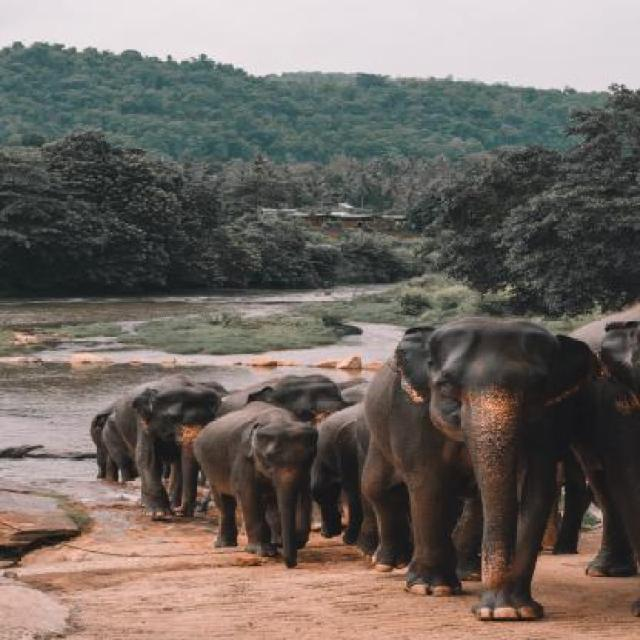Elephant: (354, 309, 615, 626), (189, 400, 333, 586), (103, 374, 234, 524)
